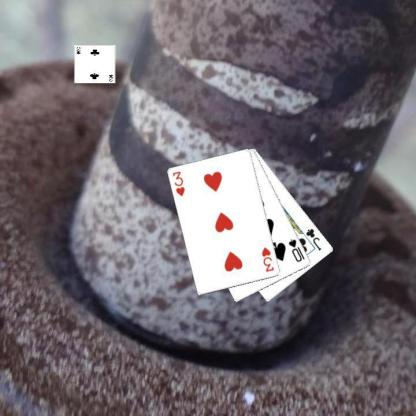10S: (286, 236, 306, 264)
3H: (170, 168, 186, 198), (259, 245, 275, 273)
JC: (303, 226, 323, 252)
